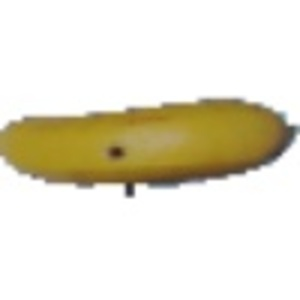banana: (1, 94, 298, 186)
